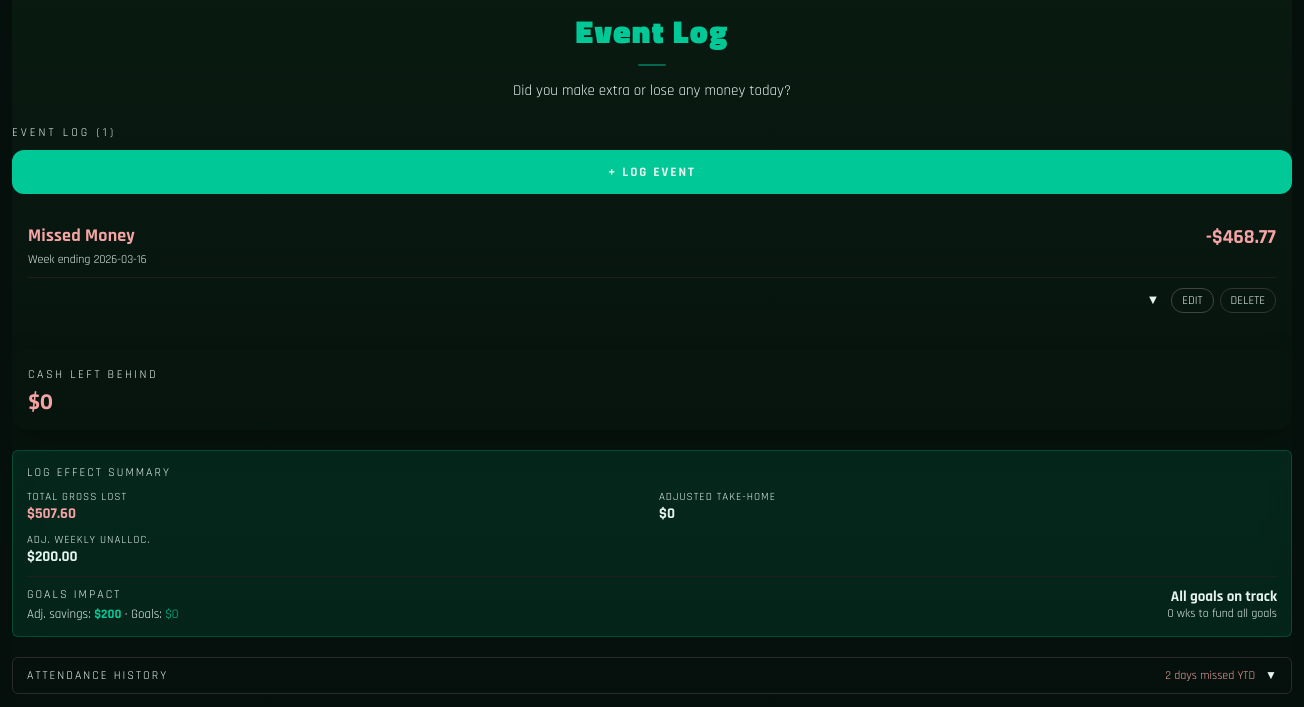
Test case: Attendance History — collapse/expand › expands when the header button is clicked
Click the button "Attendance History 2 days missed YTD ▼" at coordinates (98, 675), box [12, 657, 1292, 694]
(page scrolled)
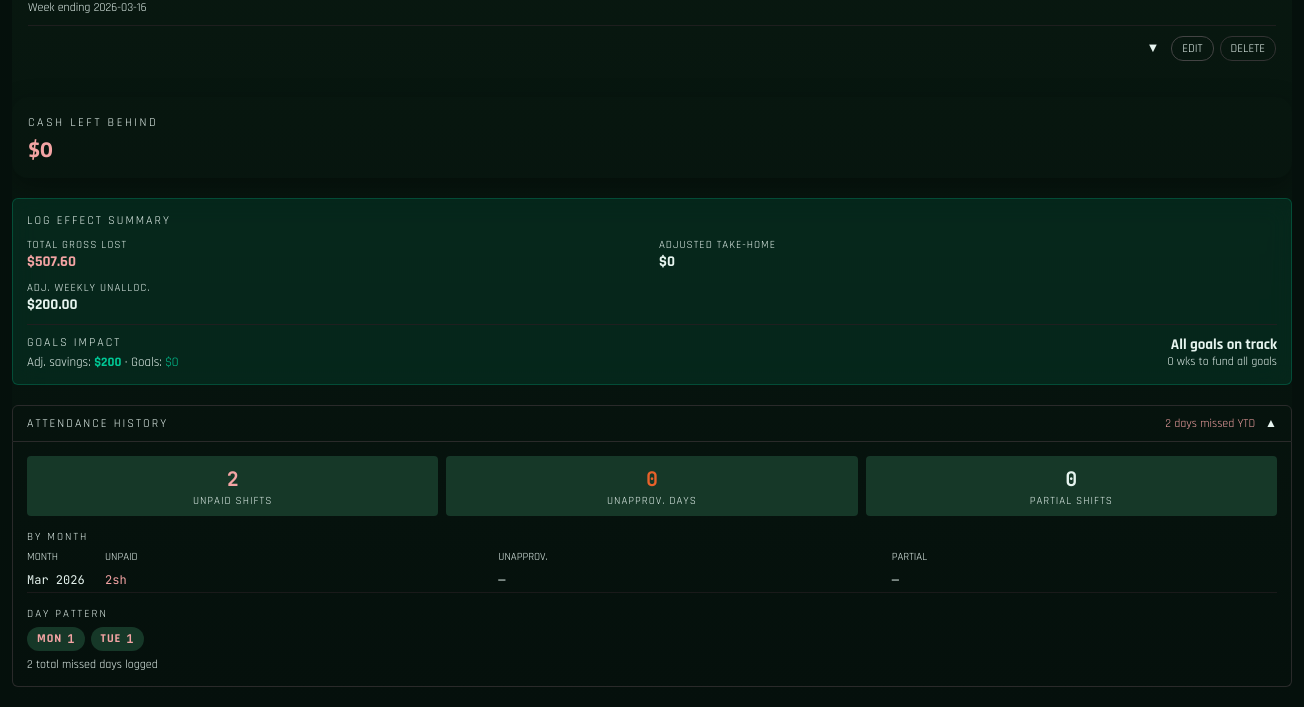
Now the text "Unpaid Shifts" is shown, box [193, 494, 272, 508]
Now the text "Unapprov. Days" is shown, box [607, 494, 697, 508]
Now the text "Partial Shifts" is shown, box [1030, 494, 1113, 508]
